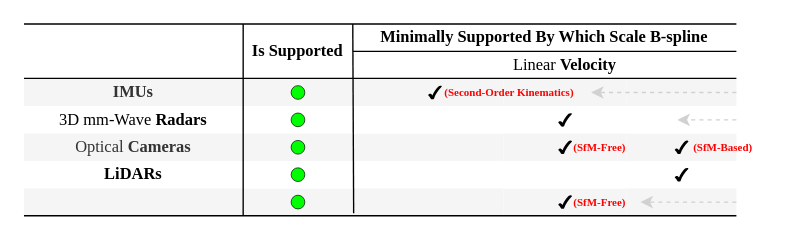
Some shapes in this 812 by 241 pixel diagram are drawn without their labels. Here are the shapes that lost their labels. From the top down, the centre of each, then its label:
At (x=132, y=50): "Sensors".
At (x=427, y=64): "Linear Acceleration".
At (x=681, y=64): "Translation".
At (x=564, y=119): "(Doppler Velocity)".
At (x=681, y=174): "(Point-To-Surfel)".
At (x=132, y=201): "RGBD Cameras".
